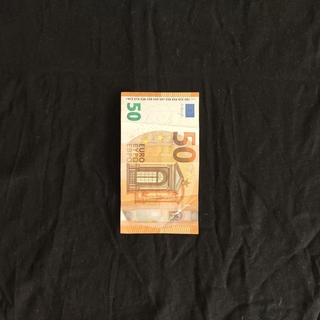50EUROFront: (119, 90, 200, 235)
